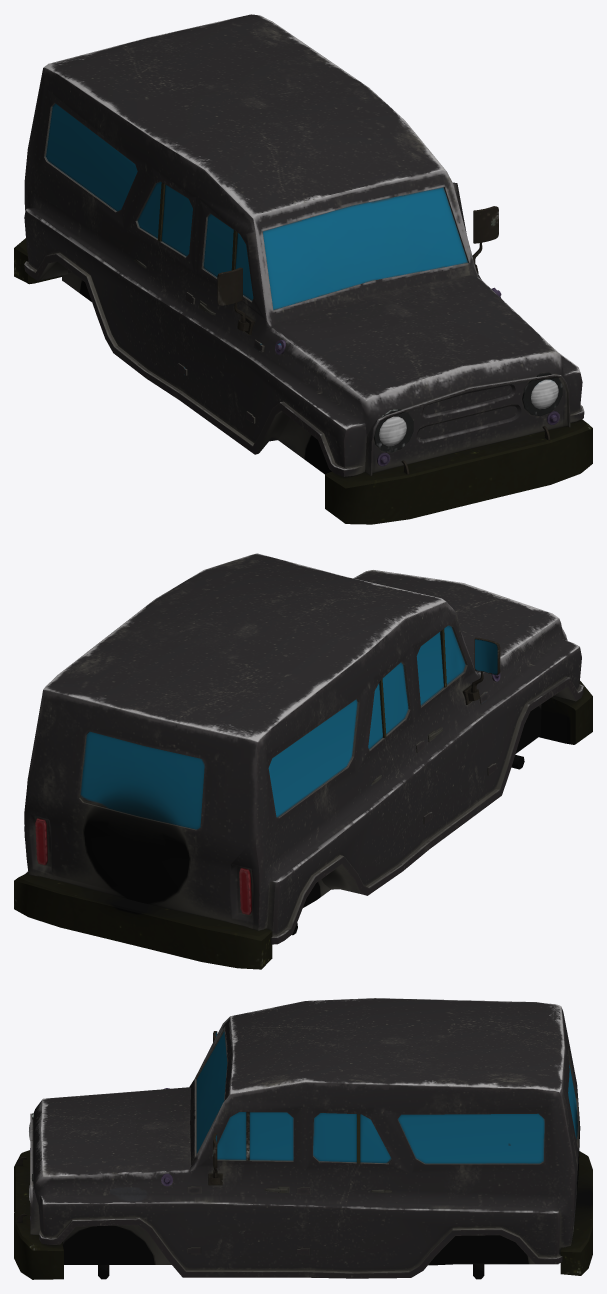
File: UAZ.fbx
The picture shows the model from 3 angles, top to bottom: view 1: azimuth 30°, elevation 25°; view 2: azimuth 150°, elevation 25°; view 3: azimuth 270°, elevation 25°; orthographic projection. The views are drawn at different scales.
Visible parts, largest first — view 1: UAZ; view 2: UAZ; view 3: UAZ.
Part boxes in pixels (bbox=[...]): UAZ: bbox=[14, 14, 592, 524]; UAZ: bbox=[14, 553, 592, 969]; UAZ: bbox=[14, 998, 592, 1279].
Bounding box in the file's own units: 76.71 × 64.98 × 165.
1 material, 1 textured.
